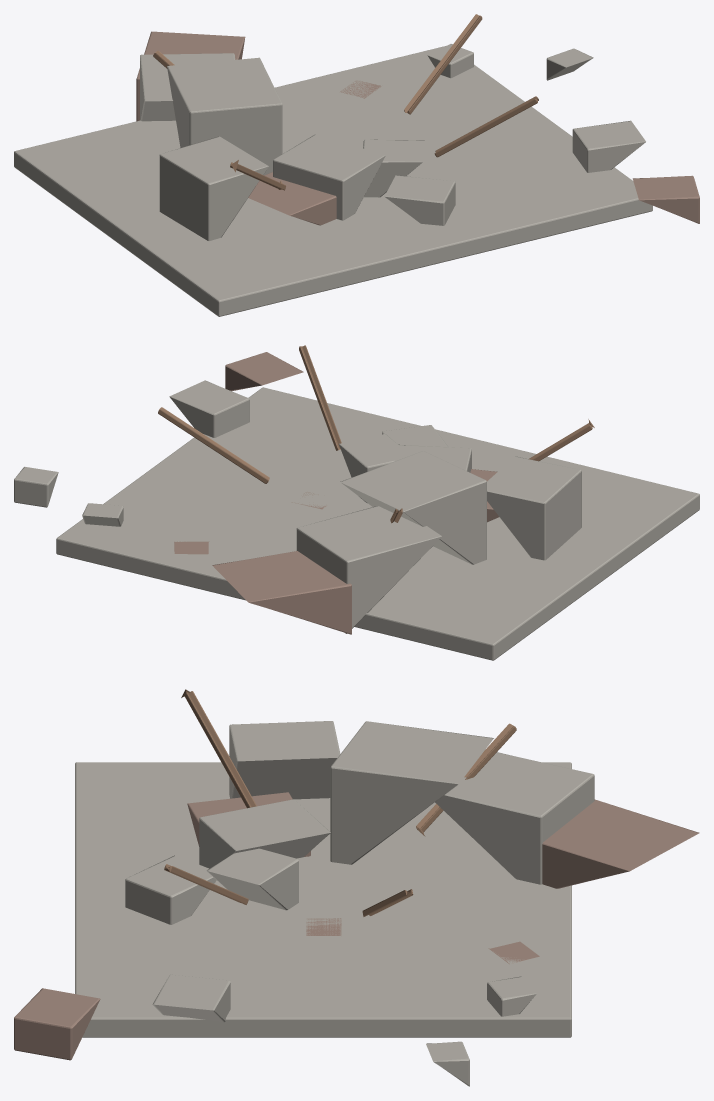
The model's file is rubble_pile.fbx.
3 views of the same model, one above another, from view 1: azimuth 30°, elevation 25°; view 2: azimuth 150°, elevation 25°; view 3: azimuth 270°, elevation 25° (orthographic). The views are drawn at different scales.
Visible parts, largest first — view 1: rubble_pile; view 2: rubble_pile; view 3: rubble_pile.
Part boxes in pixels (x1,y1,x2,y2): rubble_pile: (14,14,699,316); rubble_pile: (14,345,699,660); rubble_pile: (14,689,699,1086).
Bounding box in the file's own units: 2.65 × 0.5252 × 2.48.
